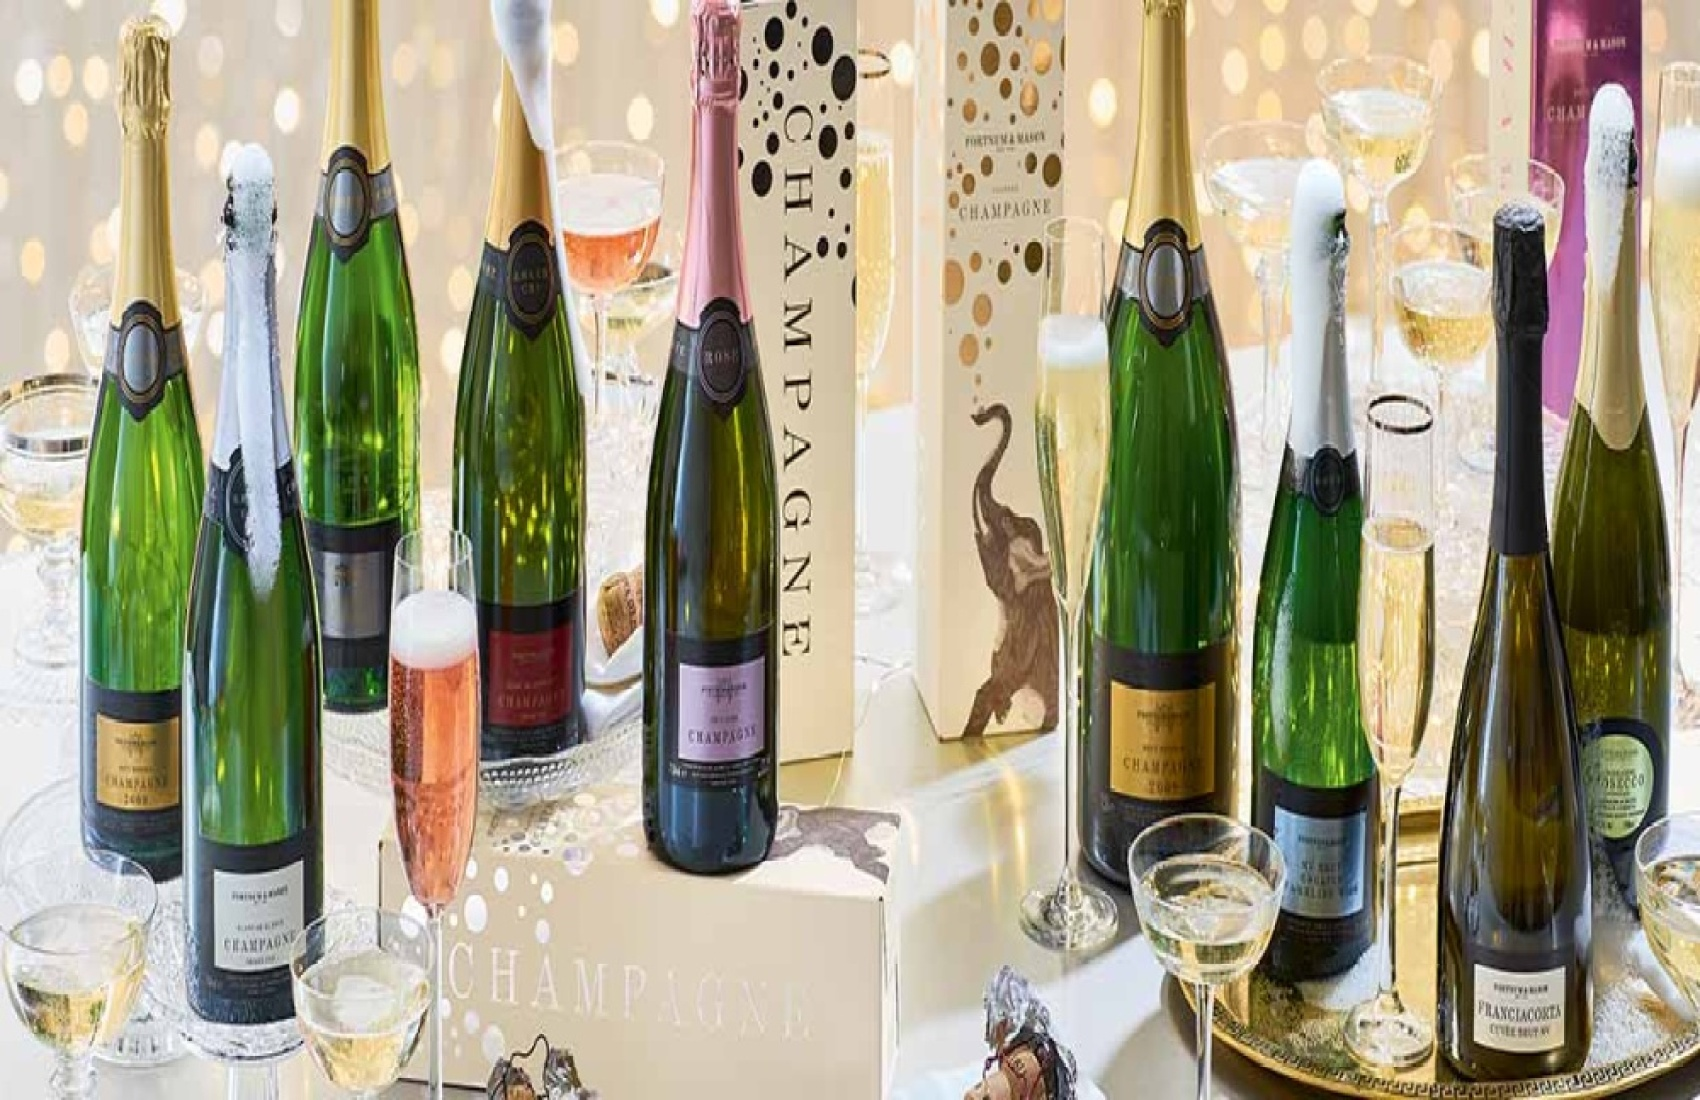wine: (1249, 108, 1382, 932), (646, 36, 778, 858), (1453, 247, 1585, 1070), (195, 220, 326, 1044), (439, 21, 581, 751), (1089, 124, 1230, 853)
